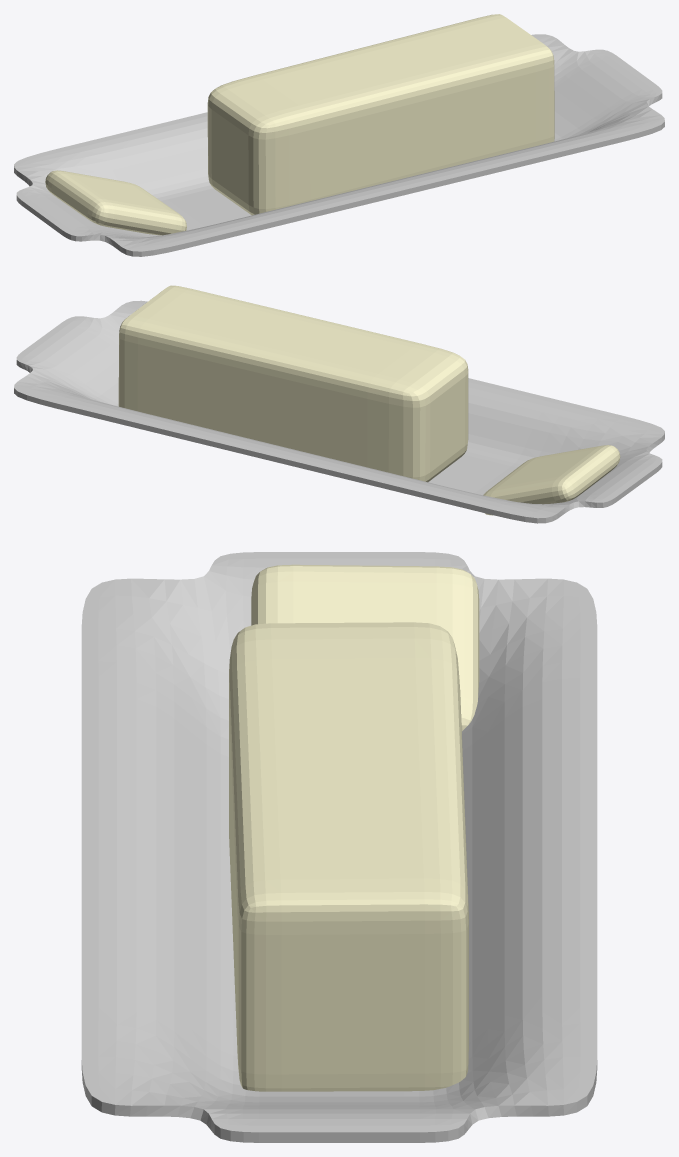
The model's file is sweethome3d-blendswap-cc-0-butter-6.glb.
3 views of the same model, one above another, from view 1: azimuth 30°, elevation 25°; view 2: azimuth 150°, elevation 25°; view 3: azimuth 270°, elevation 25° (orthographic). The views are drawn at different scales.
Visible parts, largest first — view 1: Stick_of_Butter_Stick_of_butter, Butter_Dish, Butter_Pat_03; view 2: Stick_of_Butter_Stick_of_butter, Butter_Dish, Butter_Pat_03; view 3: Butter_Dish, Stick_of_Butter_Stick_of_butter, Butter_Pat_03.
Part boxes in pixels (x1,y1,x2,y2): Stick_of_Butter_Stick_of_butter: (207,14,554,215); Butter_Dish: (14,34,664,256); Butter_Pat_03: (45,170,186,235); Stick_of_Butter_Stick_of_butter: (118,285,468,482); Butter_Dish: (14,300,664,523); Butter_Pat_03: (483,445,620,515); Butter_Dish: (81,552,597,1142); Stick_of_Butter_Stick_of_butter: (229,622,468,1091); Butter_Pat_03: (251,564,479,730).
Size of the model in its own units: 40.91 by 6.95 by 15.37.
